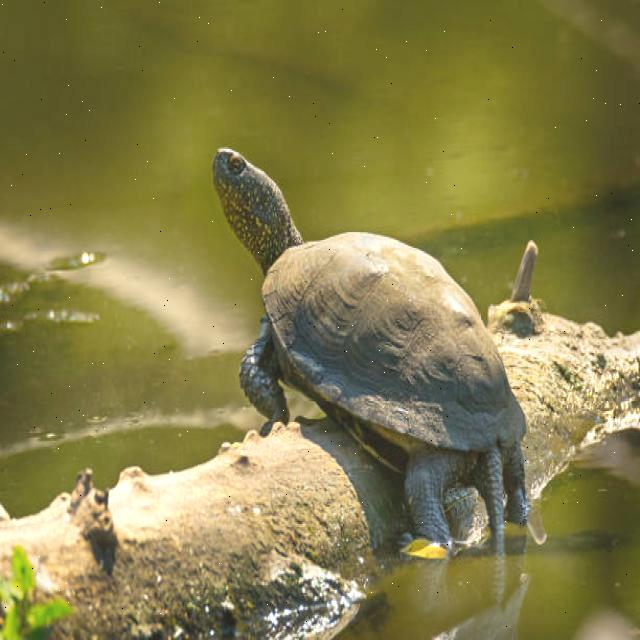tortoise: (202, 135, 534, 552)
